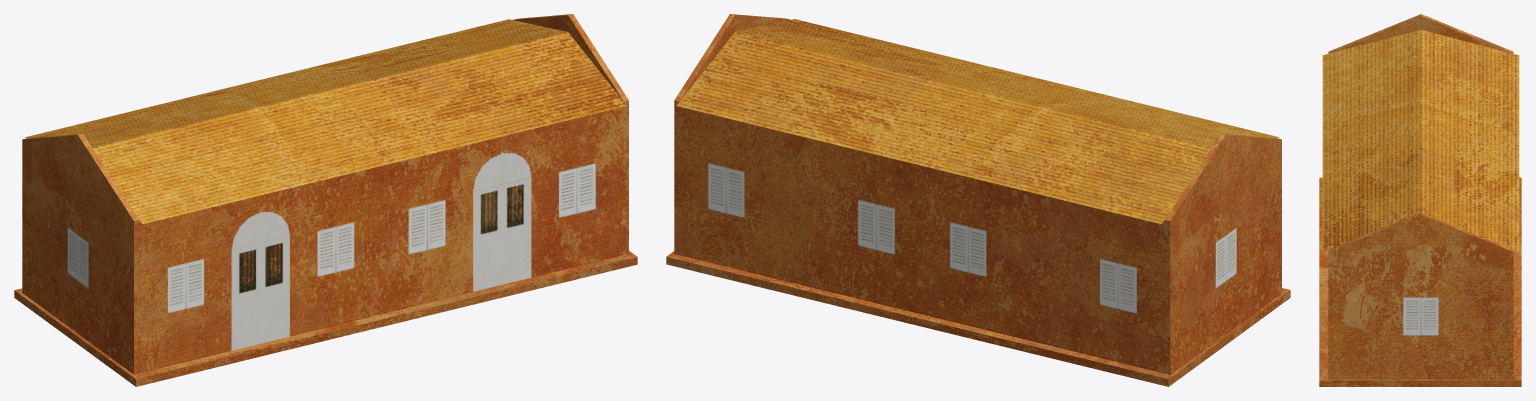
Rendered from House_Semi_D_LOD_1.fbx.
3 renders of one model, left to right at view 1: azimuth 30°, elevation 25°; view 2: azimuth 150°, elevation 25°; view 3: azimuth 270°, elevation 25°, orthographic. The views are drawn at different scales.
Parts seen in each view (by area): view 1: Cube; view 2: Cube; view 3: Cube.
Boxes of the visible parts, <box> form: Cube: <box>14,14,637,386</box>; Cube: <box>666,14,1290,386</box>; Cube: <box>1319,14,1521,386</box>.
Bounding box in the file's own units: 1038 × 408 × 437.
